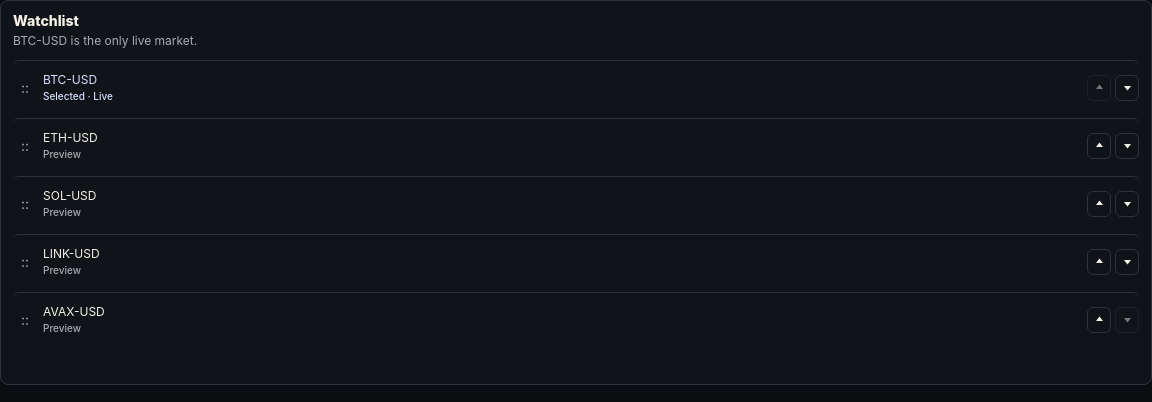
Test: Watchlist › announces the moved row position
Click the button named "Move ETH-USD down" at (1127, 146), box x1=1115 y1=133 x2=1139 y2=159
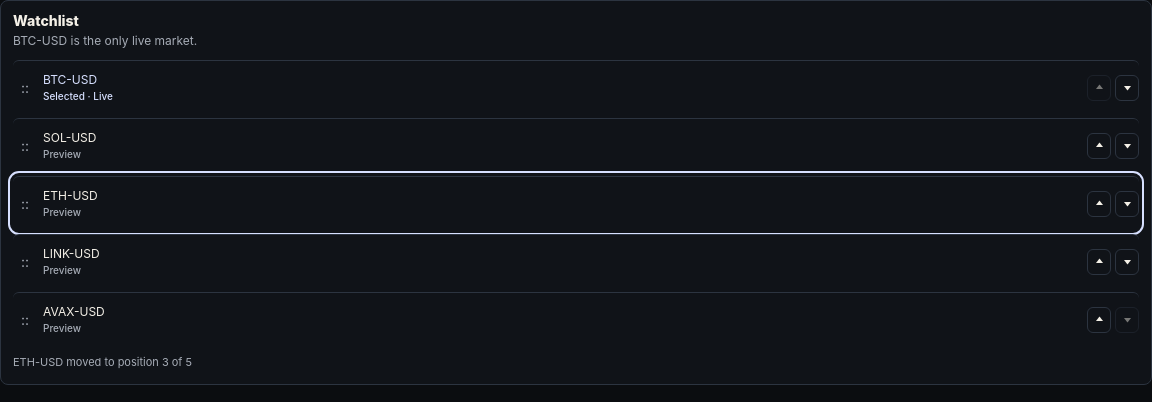
Check: the message reads "ETH-USD moved to position 3 of 5", box x1=13 y1=355 x2=192 y2=369
